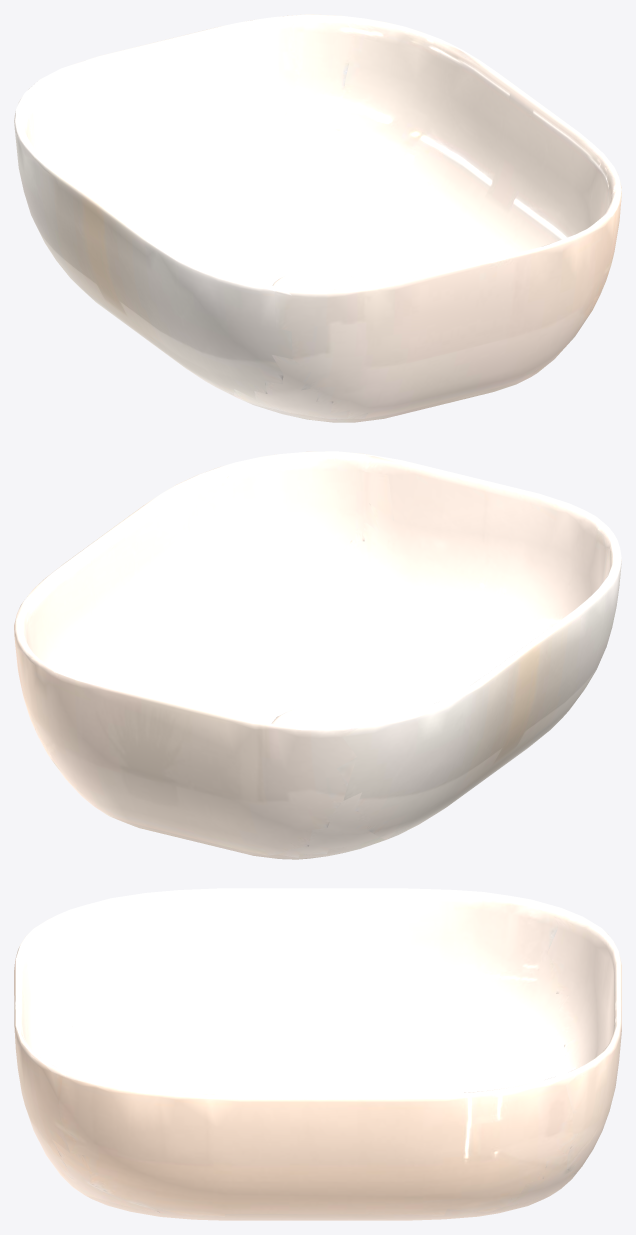
File: Over_Counter_Amazon_Star_White.glb
3 views of the same model, one above another, from view 1: azimuth 30°, elevation 25°; view 2: azimuth 150°, elevation 25°; view 3: azimuth 270°, elevation 25° (orthographic).
Visible parts, largest first — view 1: Over_Counter_Amazon_Star_White; view 2: Over_Counter_Amazon_Star_White; view 3: Over_Counter_Amazon_Star_White.
Boxes of the visible parts, bbox=[...] form: Over_Counter_Amazon_Star_White: bbox=[14, 14, 621, 422]; Over_Counter_Amazon_Star_White: bbox=[14, 451, 621, 859]; Over_Counter_Amazon_Star_White: bbox=[14, 888, 621, 1220].
Bounding box in the file's own units: 0.4025 × 0.1516 × 0.4931.
1 material, 1 textured.
